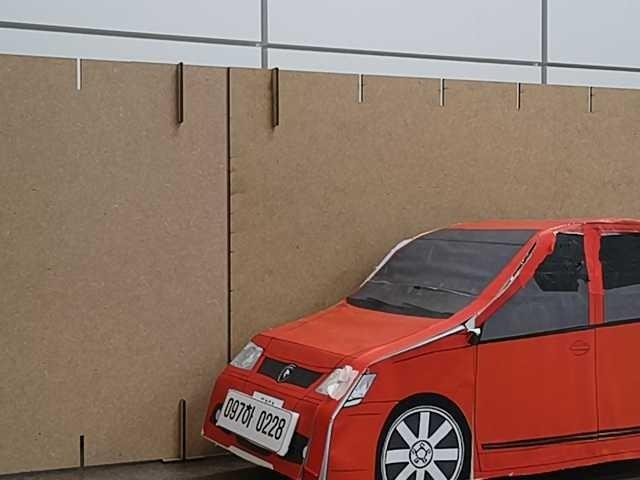car: (201, 221, 640, 480)
id: (213, 387, 295, 453)
